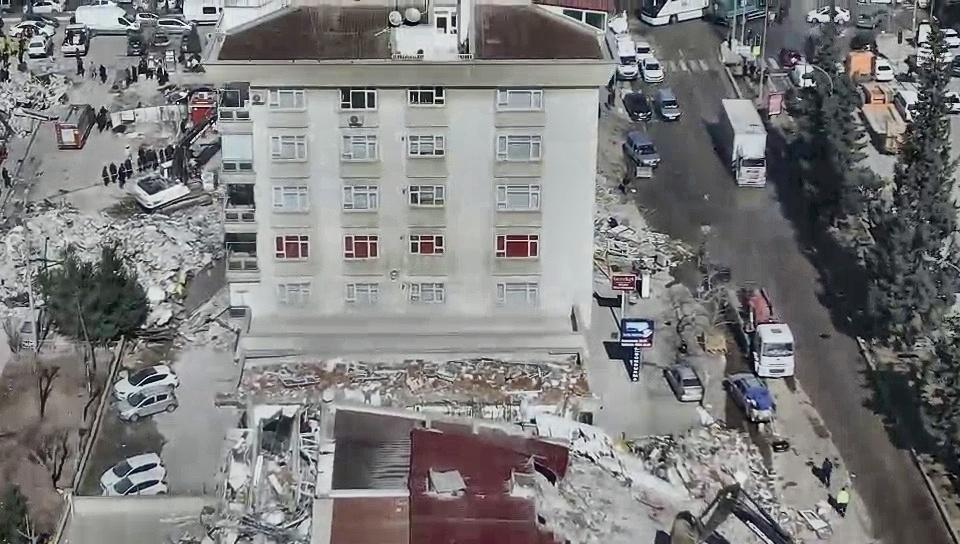kapali: (0, 146, 156, 304)
